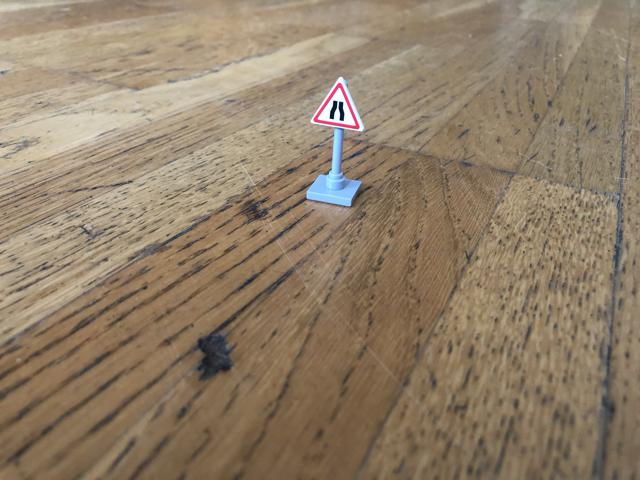verengte fahrbahn: (312, 77, 363, 132)
